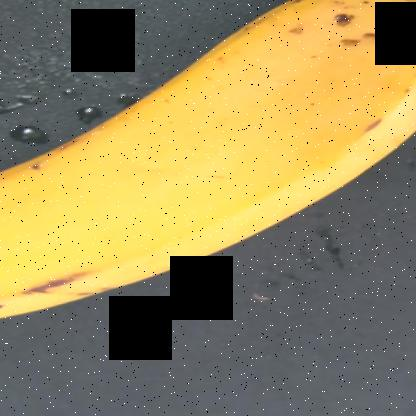freshripe: (1, 0, 415, 323)
